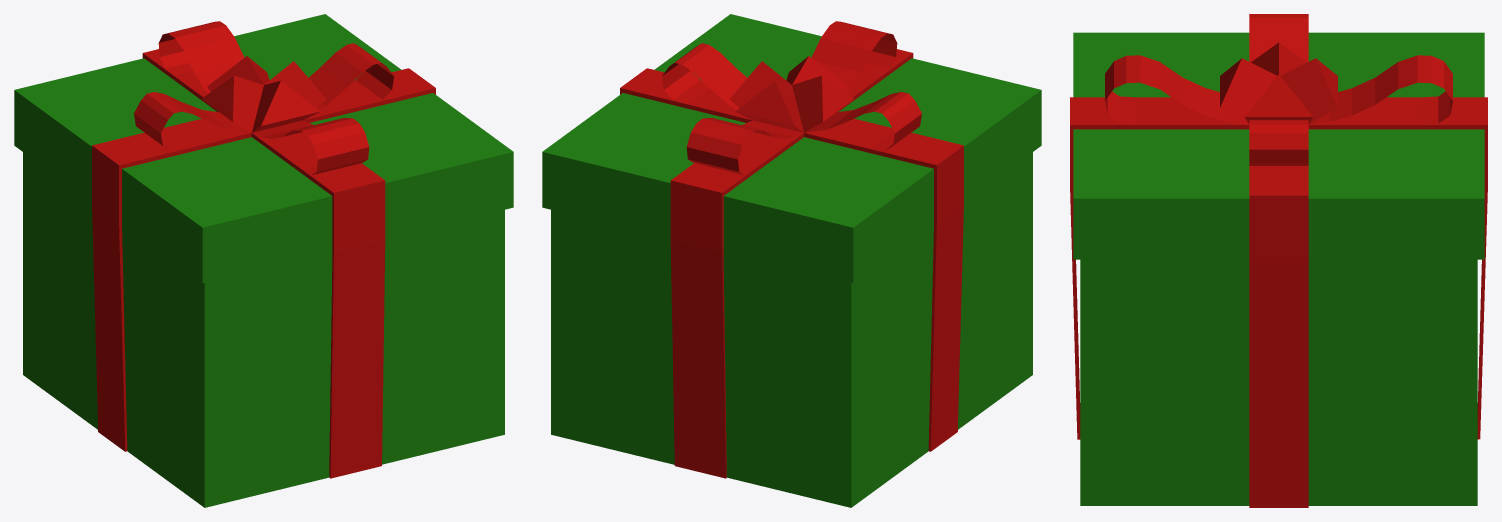
Rendered from Present_Square_Green.fbx.
3 renders of one model, left to right at view 1: azimuth 30°, elevation 25°; view 2: azimuth 150°, elevation 25°; view 3: azimuth 270°, elevation 25°, orthographic. The views are drawn at different scales.
Visible parts, largest first — view 1: Present; view 2: Present; view 3: Present.
Boxes of the visible parts, x1,y1,x2,y2 form: Present: (14,14,513,507); Present: (542,14,1041,507); Present: (1070,14,1487,507).
Size of the model in its own units: 164 by 166 by 171.
